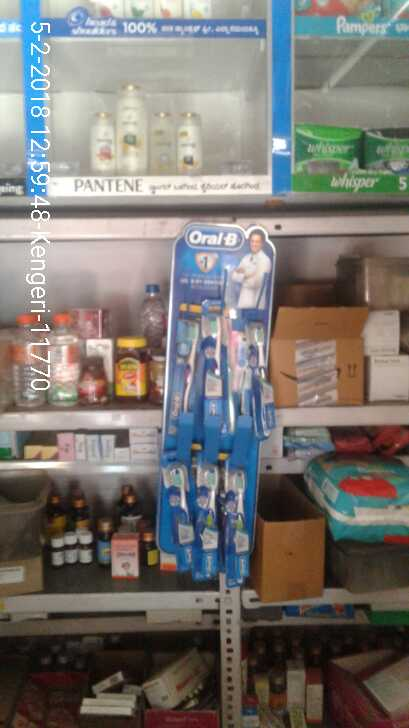beauty: (74, 80, 205, 172)
pharmacy: (229, 318, 275, 434), (163, 458, 198, 575), (193, 458, 223, 591), (170, 305, 200, 428), (215, 467, 248, 575), (199, 305, 226, 433), (293, 126, 361, 174), (360, 127, 409, 166)
